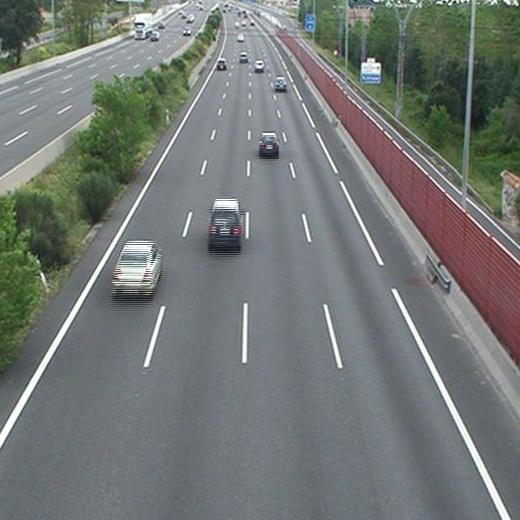car: (113, 242, 161, 295), (209, 200, 242, 246), (258, 132, 279, 154), (274, 76, 287, 91), (217, 58, 227, 71), (254, 61, 263, 71), (236, 32, 245, 42), (240, 53, 247, 61)
